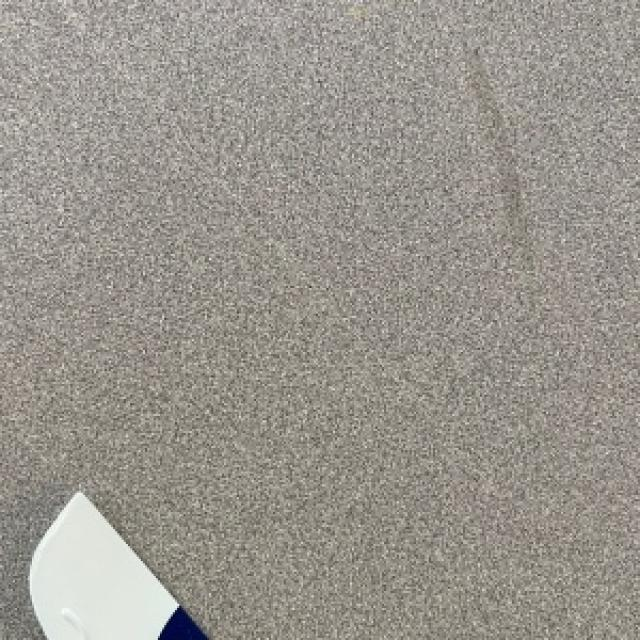healthy: (32, 491, 203, 638)
